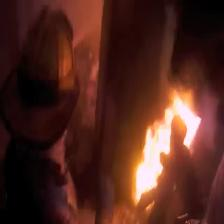fire: (137, 91, 201, 203)
